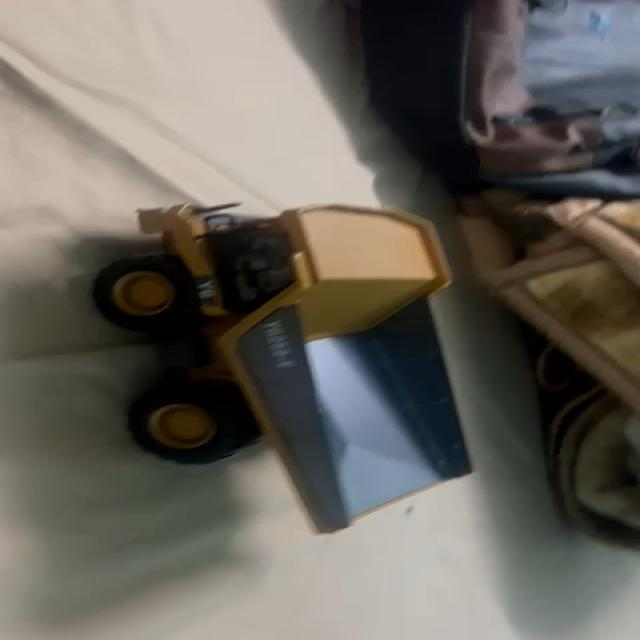dump_truck: (87, 201, 482, 523)
